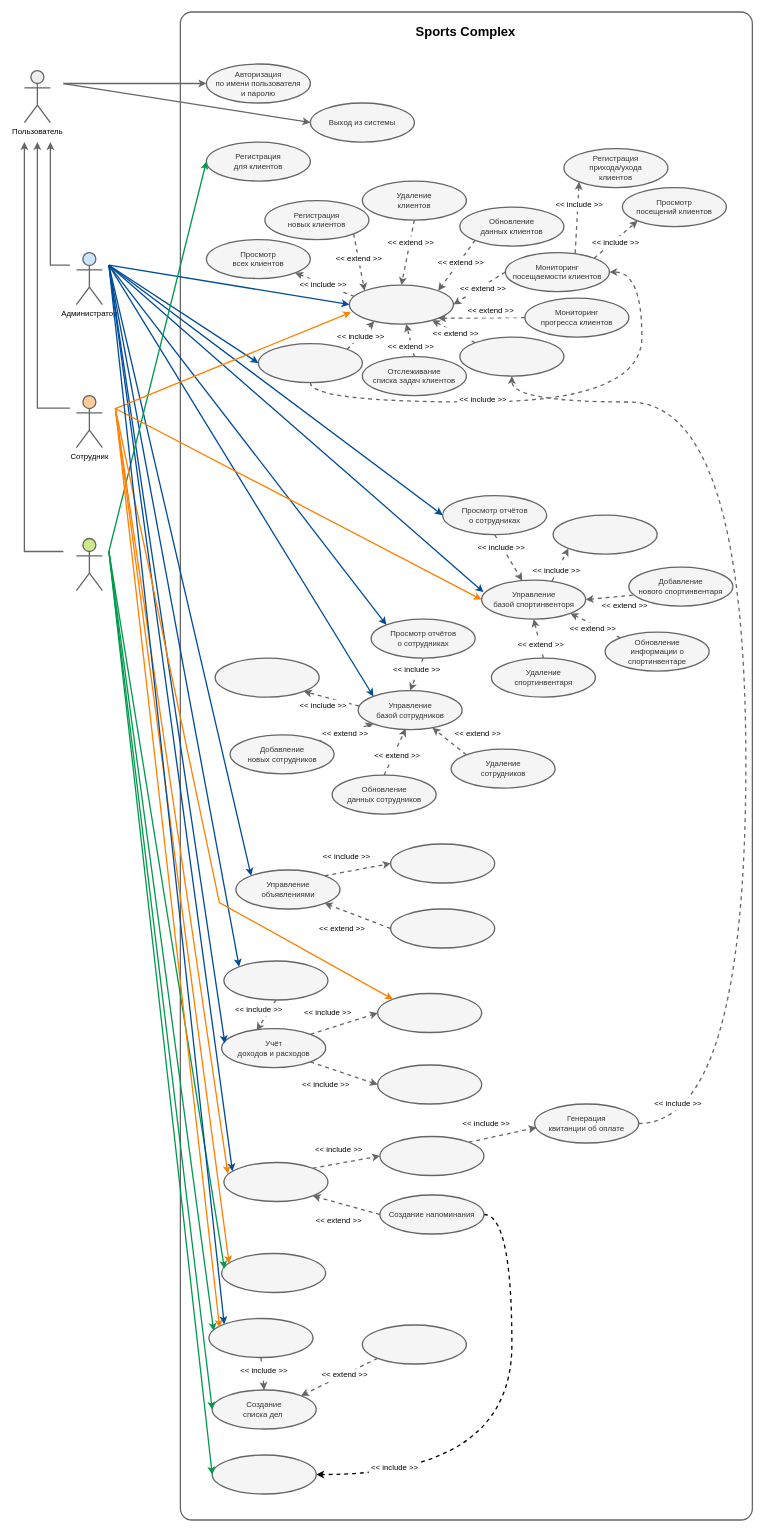
The diagram is 764 pixels wide and 1531 high, and some of its shapes have lost their labels. The box of each missing label's shape, as (x1, y1, x2, y2) in pixels:
Клиент: (75, 538, 103, 591)
Просмотр всего спортинвентаря: (552, 514, 657, 554)
Просмотр всех сотрудников: (214, 657, 319, 697)
Просмотр задач: (208, 1318, 313, 1358)
Просмотр напоминания: (211, 1454, 317, 1494)
Просмотр объявлений: (221, 1253, 326, 1293)
Просмотр отчётов: (257, 343, 363, 383)
Просмотр отчётов о доходах и расходах: (223, 960, 328, 1000)
Создание объявлений с указанием даты: (390, 843, 495, 883)
Создание платежа: (379, 1136, 484, 1176)
Удаление объявлений: (390, 908, 495, 948)
Управление клиентской базой: (348, 284, 454, 324)
Управление платежами клиентов: (223, 1162, 328, 1202)
Управление списком дел: (361, 1324, 467, 1364)
Управление статусами (абонементами) клиентов: (459, 336, 564, 376)
Учёт доходов: (377, 993, 482, 1033)
Учёт расходов: (377, 1064, 482, 1104)
